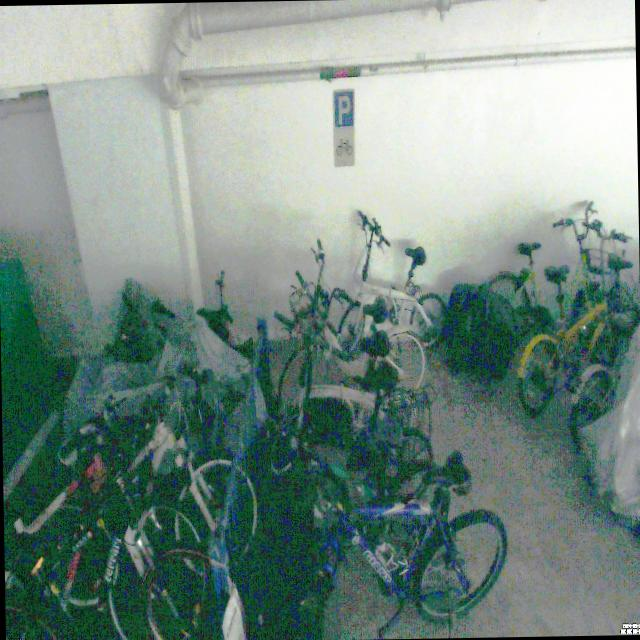bike: (276, 237, 426, 403), (322, 208, 440, 351)
